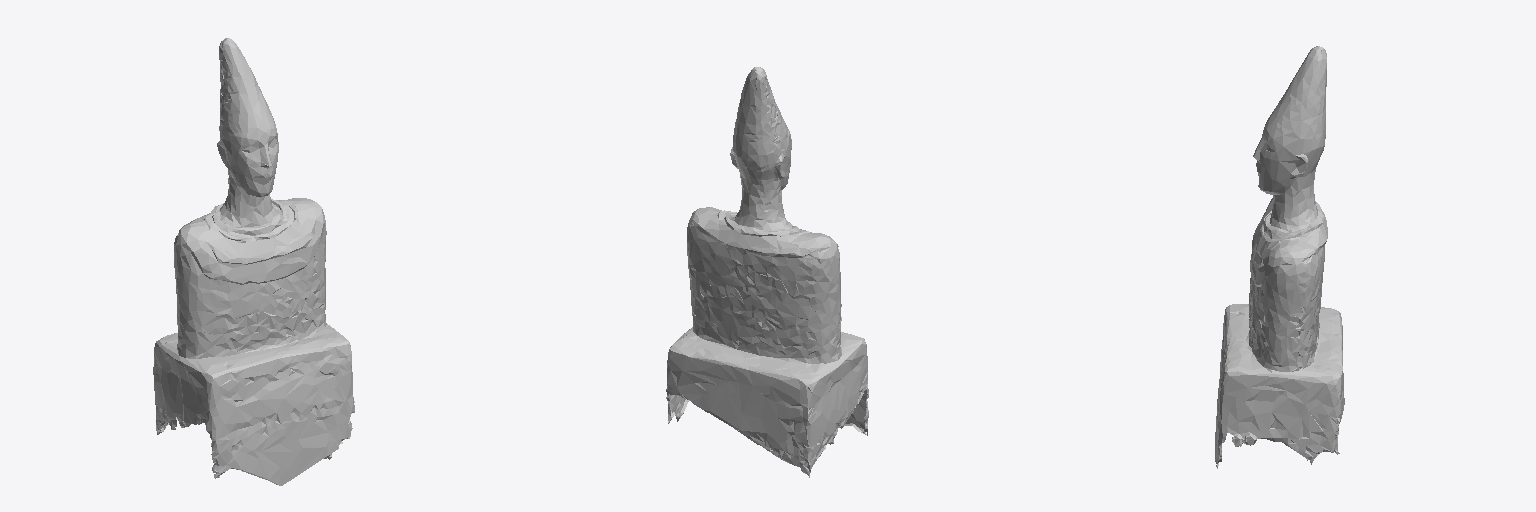
File: lods.obj
The picture shows the model from 3 angles: view 1: azimuth 30°, elevation 25°; view 2: azimuth 150°, elevation 25°; view 3: azimuth 270°, elevation 25°; orthographic projection.
Visible parts, largest first — view 1: lods; view 2: lods; view 3: lods.
Boxes of the visible parts, box(x1,y1,x2,y2) form: lods: box(153, 38, 354, 485); lods: box(666, 67, 868, 477); lods: box(1215, 46, 1344, 468).
Bounding box in the file's own units: 2.32 × 5.92 × 1.69.